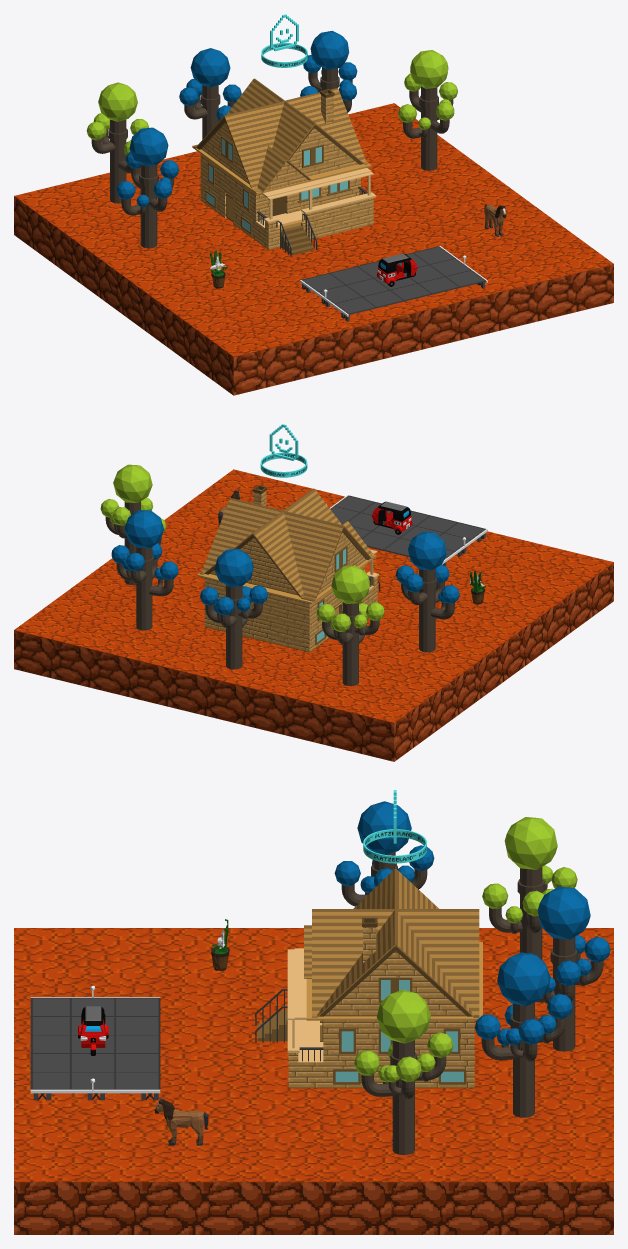
3 renders of one model, top to bottom at view 1: azimuth 30°, elevation 25°; view 2: azimuth 150°, elevation 25°; view 3: azimuth 270°, elevation 25°, orthographic. The views are drawn at different scales.
Parts seen in each view (by area): view 1: Cube.001, Cube.508, VEHICLES_TUC_TUC, TYPE_PREMIUM, ANIMAL_CABALLO; view 2: Cube.001, Cube.508, TYPE_PREMIUM, VEHICLES_TUC_TUC; view 3: Cube.001, Cube.508, TYPE_PREMIUM, ANIMAL_CABALLO, VEHICLES_TUC_TUC.
Boxes of the visible parts, left/top/right/bottom form: Cube.001: left=14, top=30, right=613, bottom=395; Cube.508: left=192, top=78, right=376, bottom=256; VEHICLES_TUC_TUC: left=376, top=253, right=417, bottom=286; TYPE_PREMIUM: left=261, top=14, right=307, bottom=67; ANIMAL_CABALLO: left=484, top=204, right=506, bottom=236; Cube.001: left=14, top=464, right=613, bottom=761; Cube.508: left=197, top=485, right=380, bottom=652; TYPE_PREMIUM: left=260, top=424, right=307, bottom=477; VEHICLES_TUC_TUC: left=371, top=501, right=412, bottom=534; Cube.001: left=14, top=801, right=613, bottom=1234; Cube.508: left=255, top=869, right=482, bottom=1088; TYPE_PREMIUM: left=363, top=790, right=426, bottom=863; ANIMAL_CABALLO: left=154, top=1098, right=208, bottom=1145; VEHICLES_TUC_TUC: left=78, top=1006, right=108, bottom=1055.
Bounding box in the file's own units: 4000 × 2410 × 4000.
Materials: 45 (6 with a texture image).
